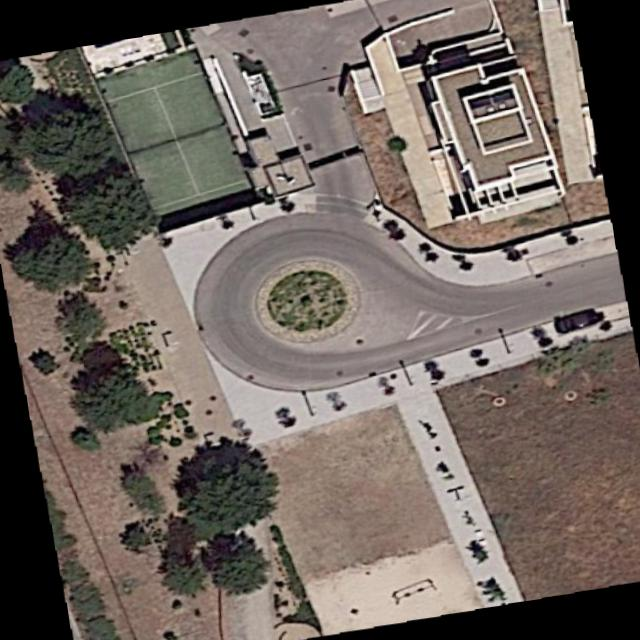small-vehicle: (549, 304, 607, 337)
